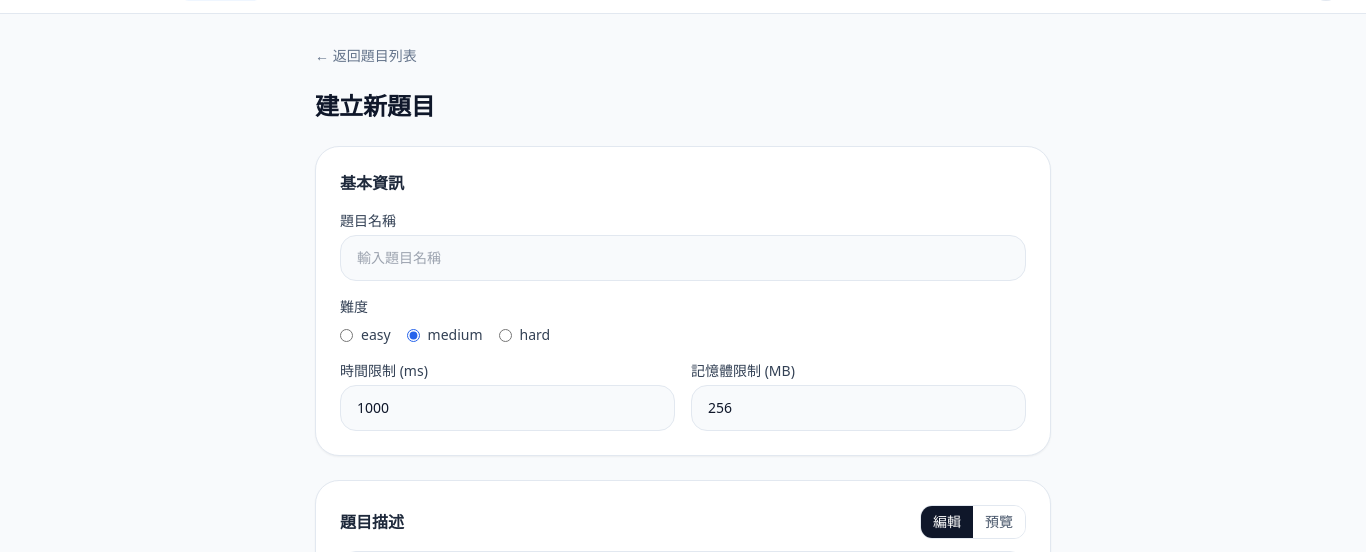
ProblemFormPage() › create mode › clicking 編輯 after 預覽 returns to the textarea
Click the button "預覽" at (999, 522), box top-left (973, 506), bottom-right (1025, 538)
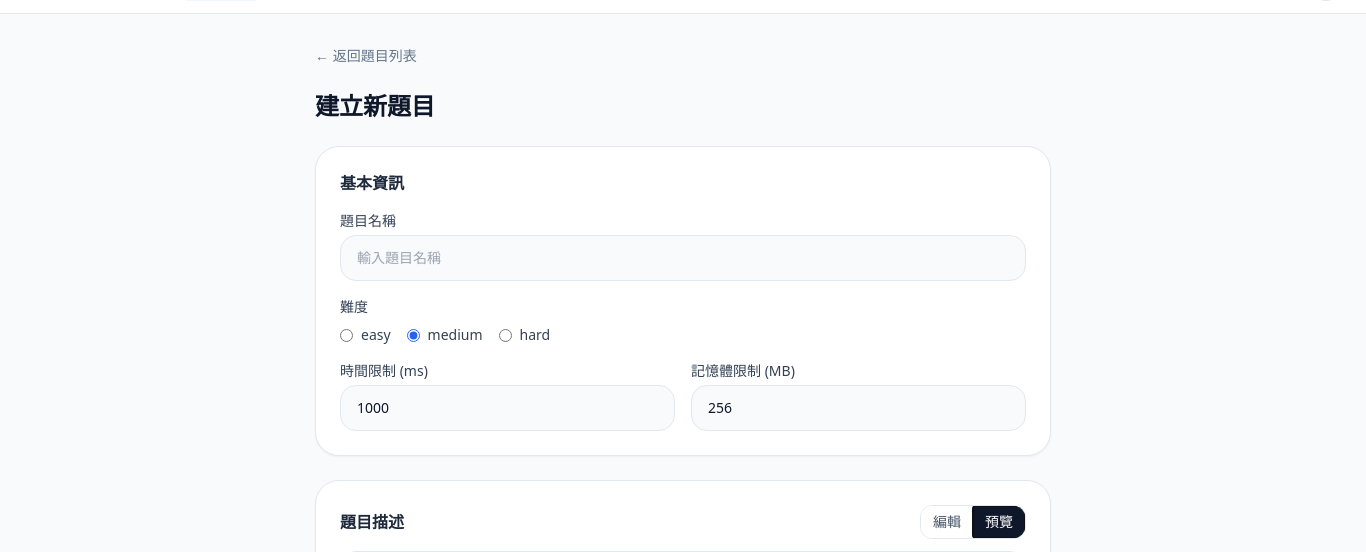
Expected: the field with placeholder "以 Markdown 撰寫題目描述..." is not shown
Click the button "編輯" at (947, 522), box top-left (921, 506), bottom-right (973, 538)
(page scrolled)
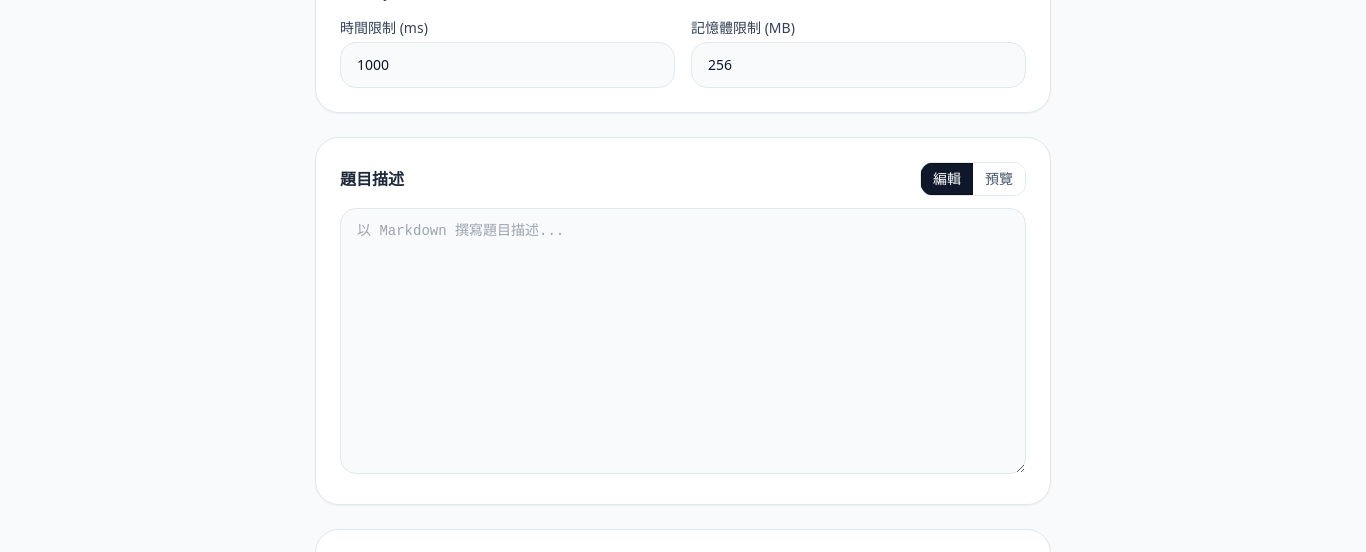
Expected: the text box with placeholder "以 Markdown 撰寫題目描述..." is shown, top-left (340, 208), bottom-right (1026, 474)
